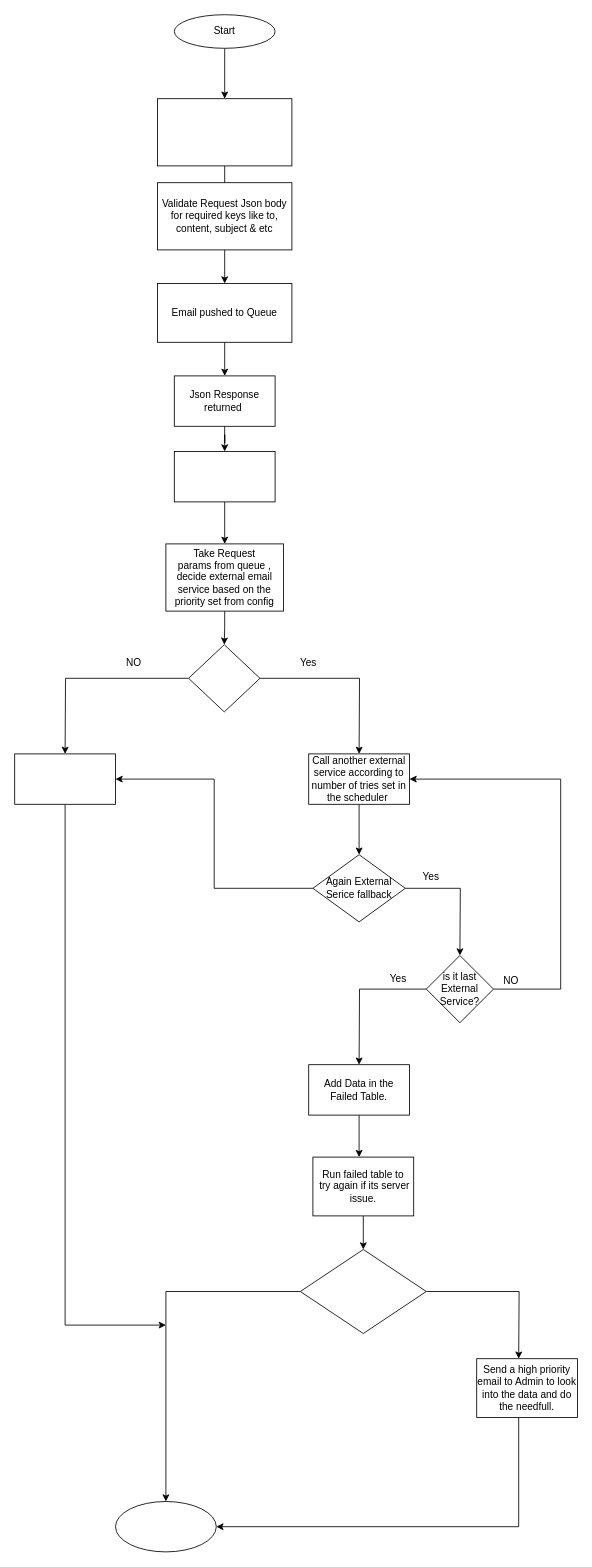
Some shapes in this 592 by 1567 pixel diagram are drawn without their labels. The centre of each missing label's shape, as x and y in pixels:
"Add event listner to update email with status in internal db." goes at (65,778).
"Cron run queue command to execute the job" goes at (224,476).
"end" goes at (165,1526).
"External Service fallback?" goes at (224,678).
"POST API Call Request (domain/api/send-email)" goes at (224,132).
"still having data in failed table more than limit set in the config?" goes at (362,1291).
